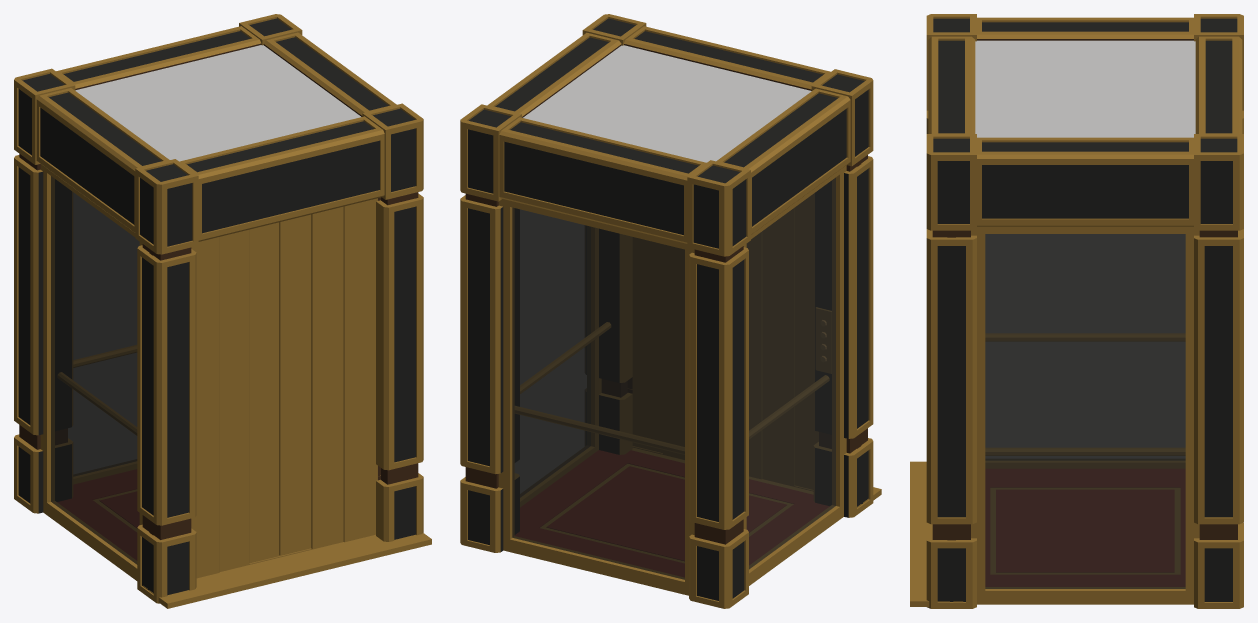
The model's file is lift-car-cab-1ebe14.glb.
The picture shows the model from 3 angles, left to right: view 1: azimuth 30°, elevation 25°; view 2: azimuth 150°, elevation 25°; view 3: azimuth 270°, elevation 25°; orthographic projection. The views are drawn at different scales.
Visible parts, largest first — view 1: car, car-glass, door-right-panel, door-right-mid-panel, door-right-fast-panel, door-left-mid-panel, door-left-fast-panel, door-left-panel; view 2: car, car-glass, door-left-mid-panel, door-right-panel, door-left-panel, door-right-mid-panel, door-left-fast-panel; view 3: car, car-glass.
Part boxes in pixels (box(x1,y1,x2,y2)): car: box(14, 14, 431, 608); car-glass: box(51, 176, 139, 564); door-right-panel: box(343, 198, 377, 542); door-right-mid-panel: box(311, 206, 343, 548); door-right-fast-panel: box(279, 214, 311, 555); door-left-mid-panel: box(219, 230, 249, 571); door-left-fast-panel: box(249, 222, 279, 563); door-left-panel: box(191, 237, 219, 578); car: box(460, 14, 881, 608); car-glass: box(512, 177, 835, 579); door-left-mid-panel: box(762, 208, 794, 485); door-right-panel: box(633, 237, 662, 452); door-left-panel: box(795, 194, 818, 489); door-right-mid-panel: box(663, 244, 684, 459); door-left-fast-panel: box(747, 232, 761, 478); car: box(910, 14, 1243, 608); car-glass: box(985, 234, 1185, 588).
Size of the model in its own units: 2 by 3 by 2.
